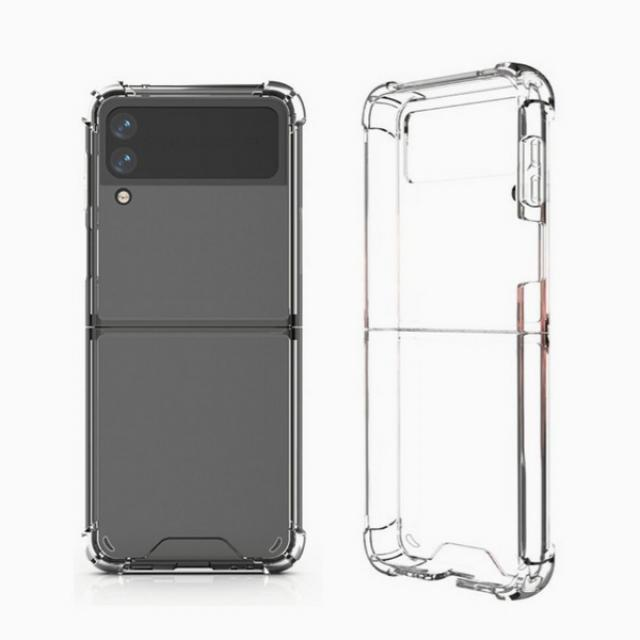phone: (83, 79, 305, 575)
